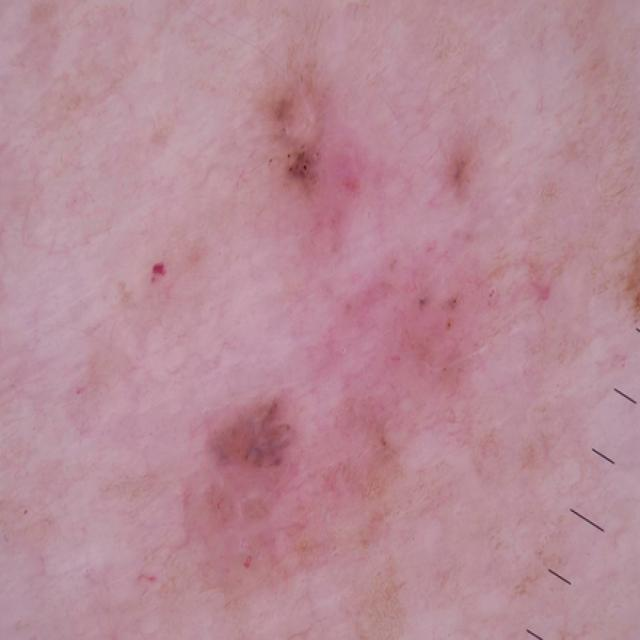Skin-Cancer Basal cell carcinoma: (51, 30, 594, 583)
